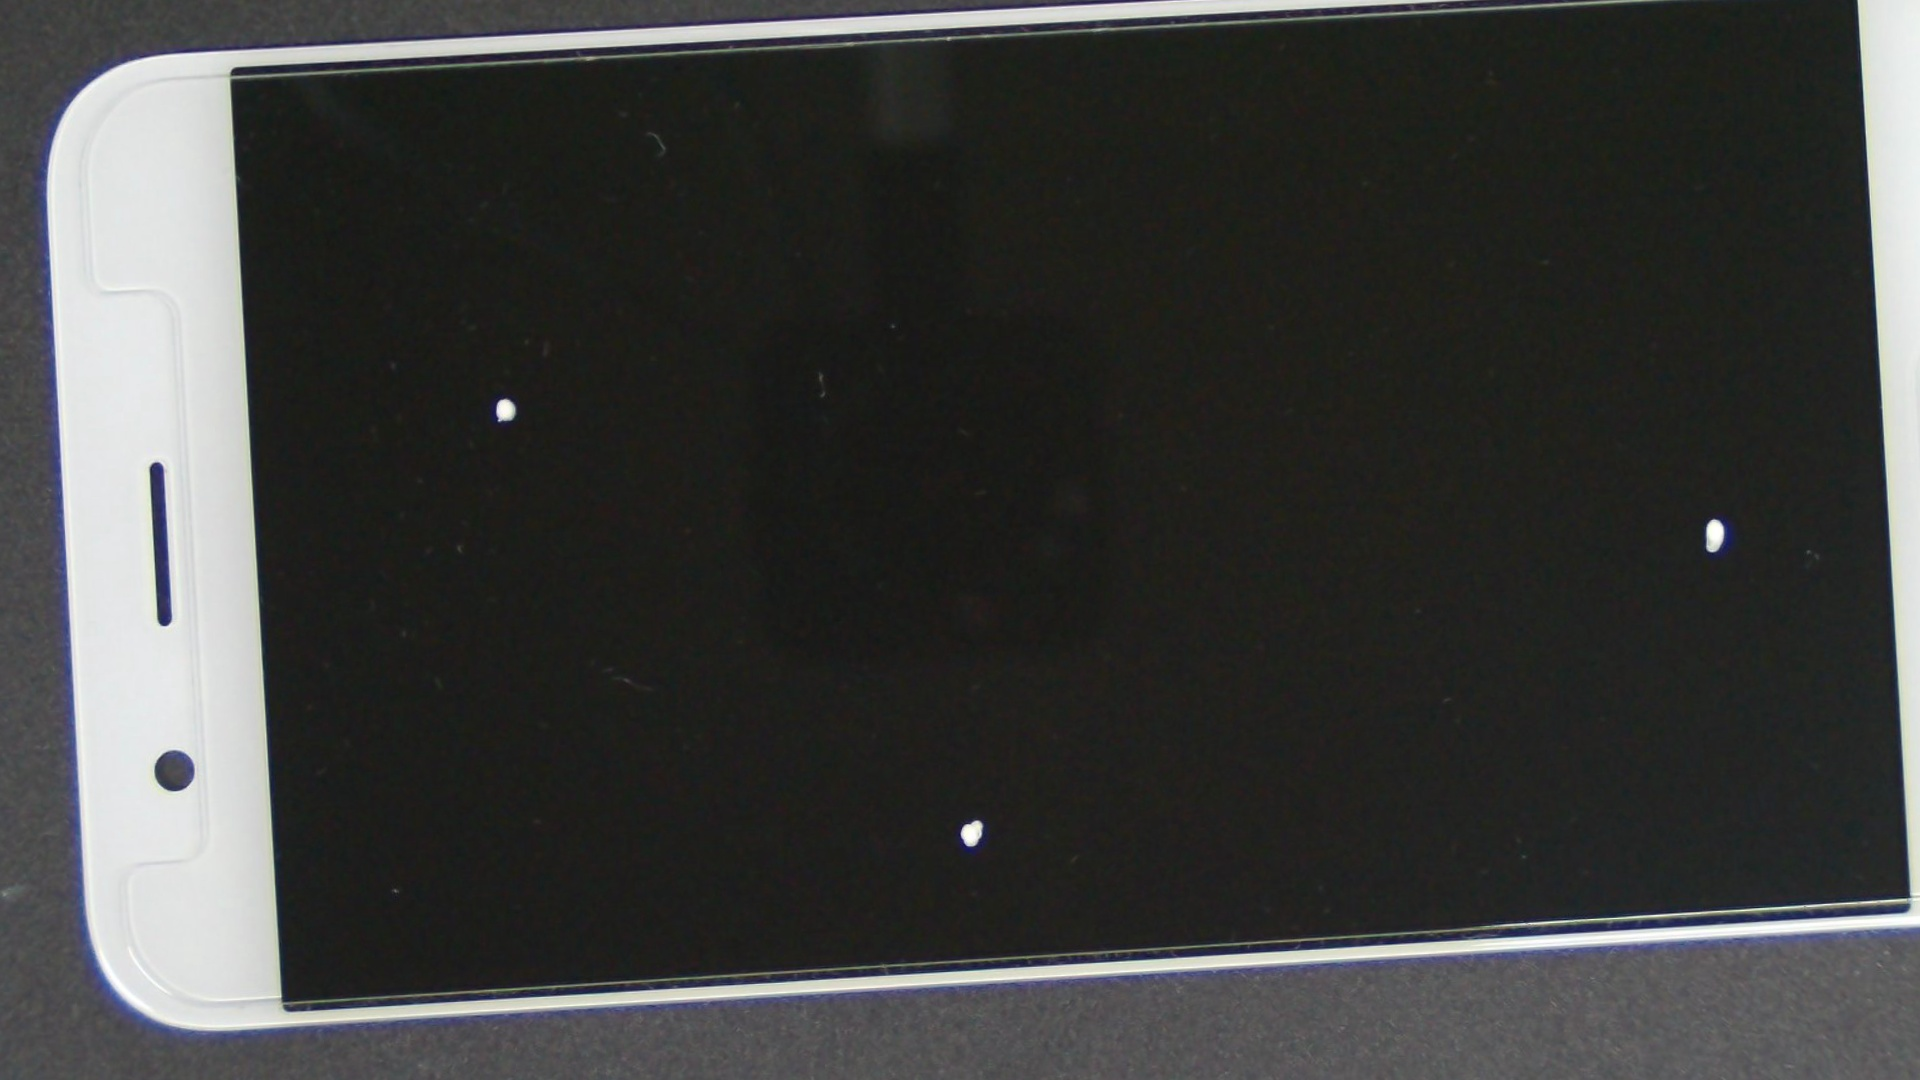oil: (825, 160, 1920, 895), (458, 324, 1485, 1080), (222, 133, 787, 659)
